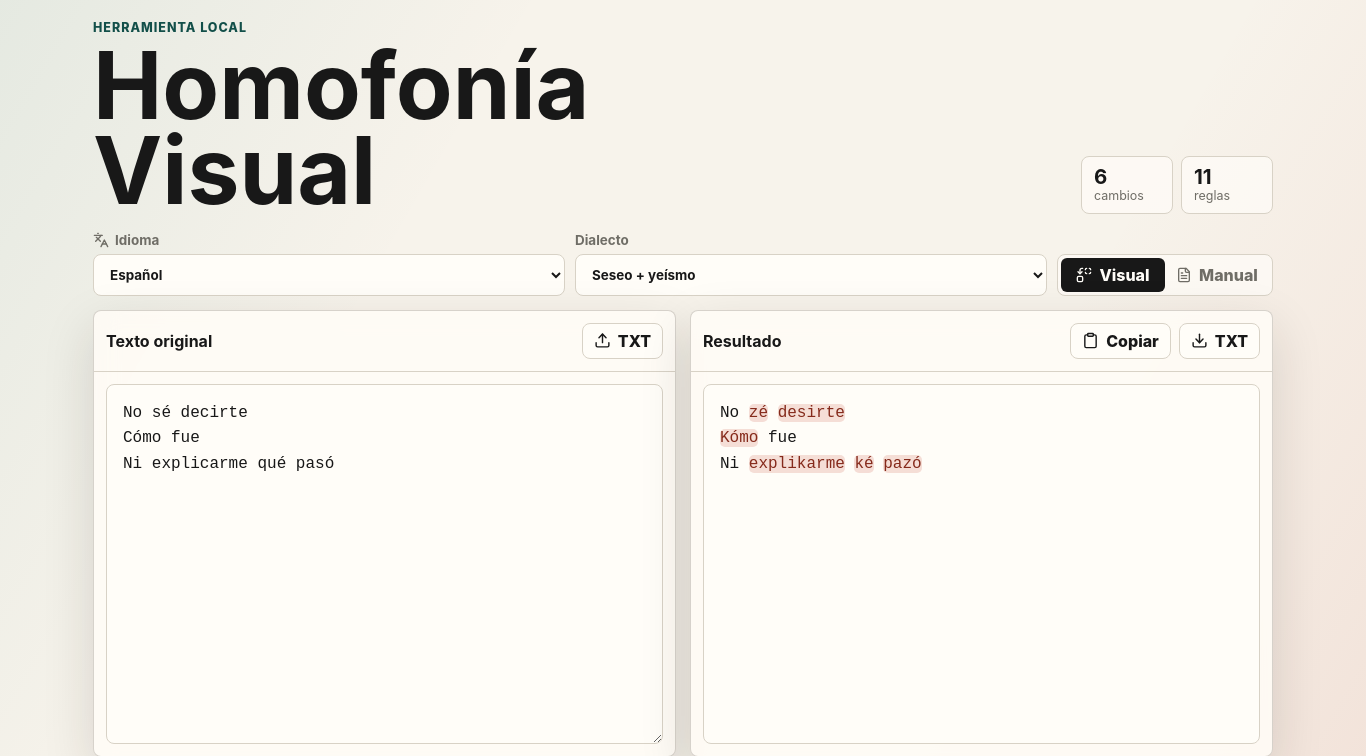
Test: App › allows manual replacement review
Click the button "Manual" at (1217, 275), box [1165,258,1269,292]
(page scrolled)
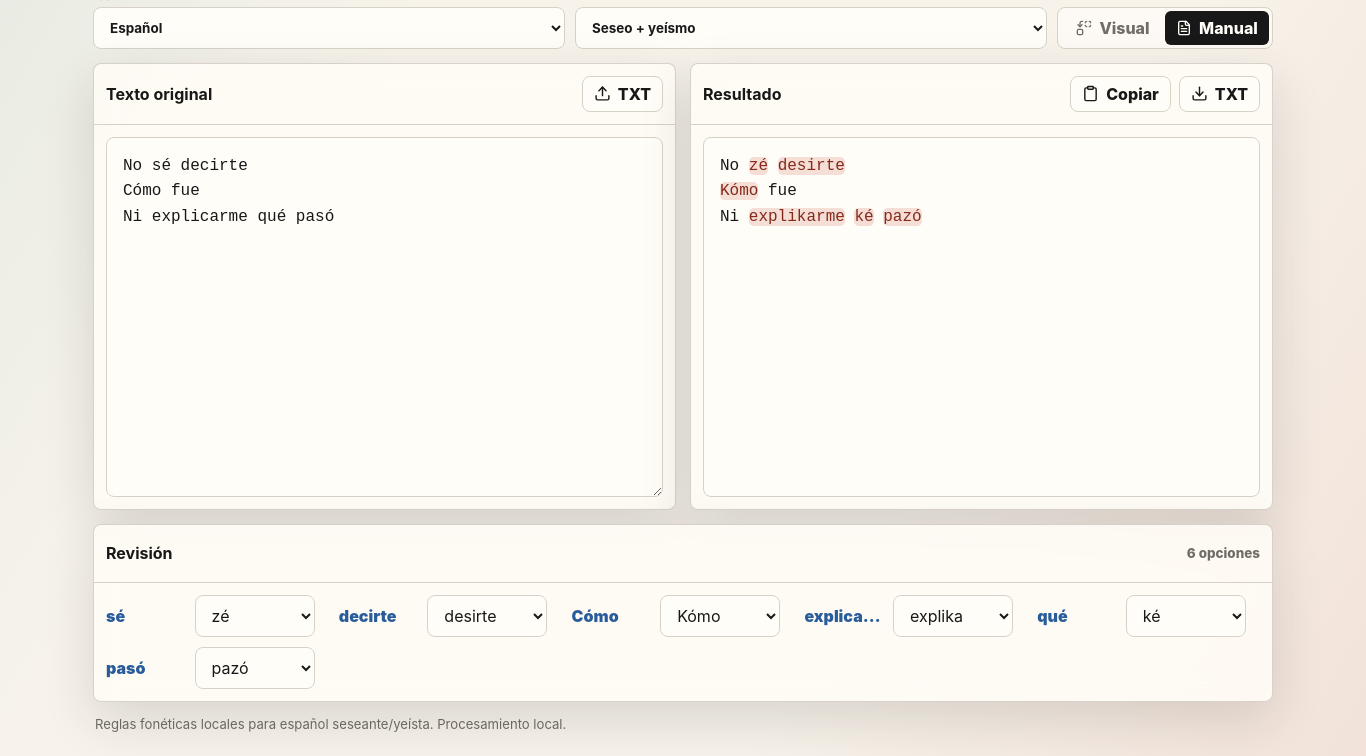
Result: the button "Visual" is not pressed at [1061,11,1165,45]
Result: the button "Manual" is pressed at [1165,11,1269,45]
Select "Sin cambio" in the dropdown showing "zé" at (255, 616), box [195,595,315,637]
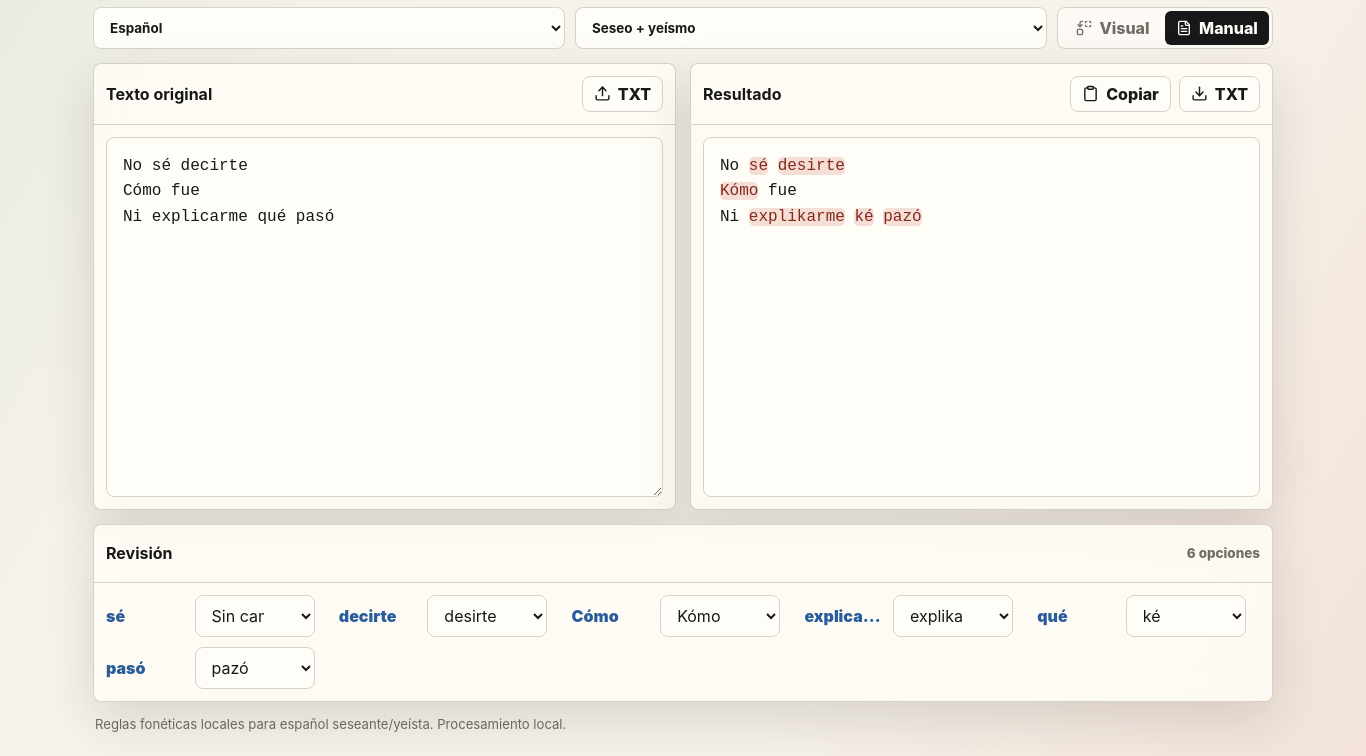
Result: the element named "Texto transformado" shows "No sé desirte" at [703,137,1260,497]
